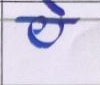e_matra: (41, 1, 67, 17)
